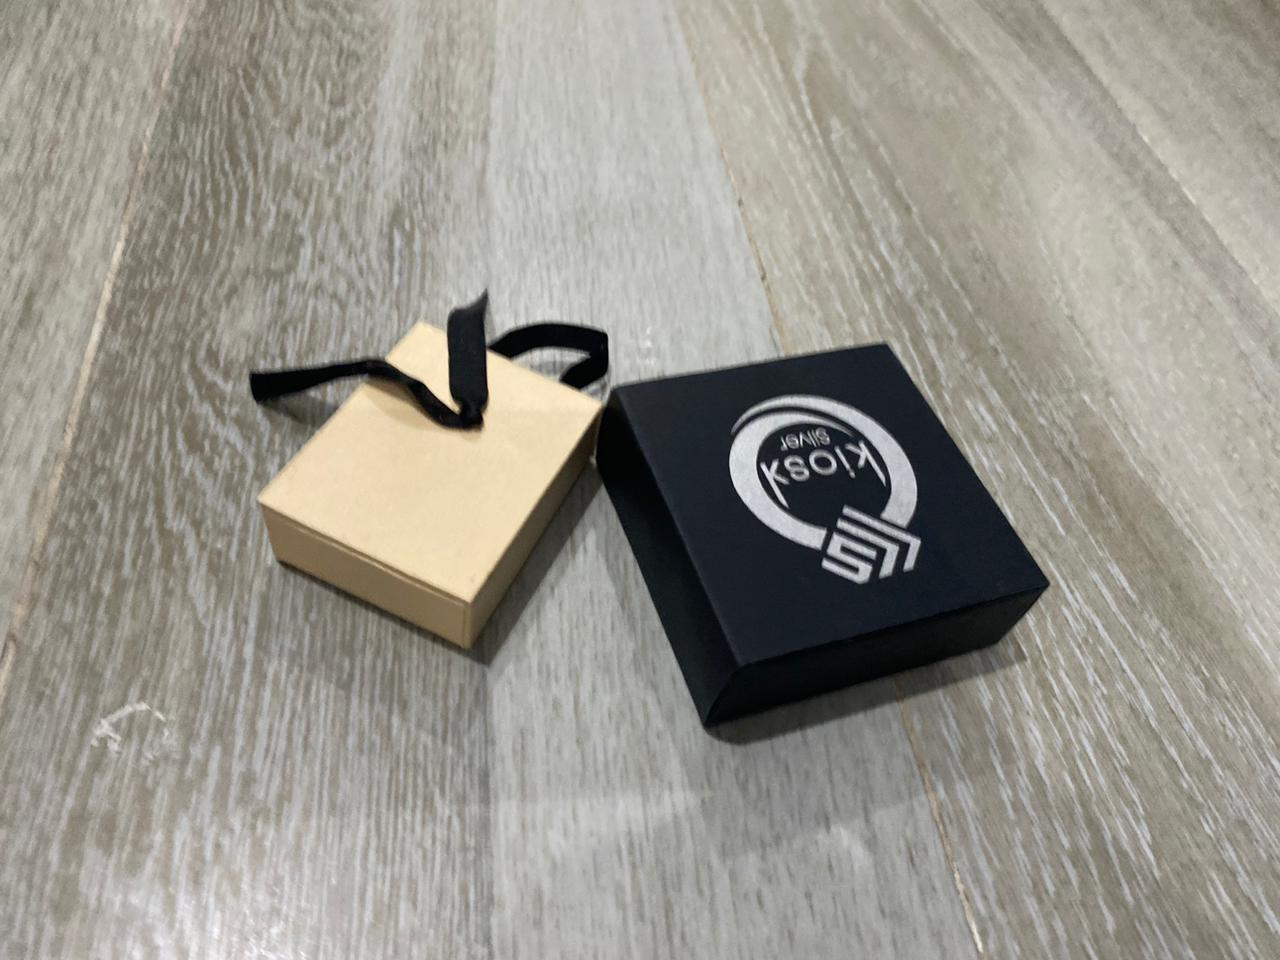Red Box: (602, 336, 1057, 737)
Yellow Box: (247, 315, 608, 659)
